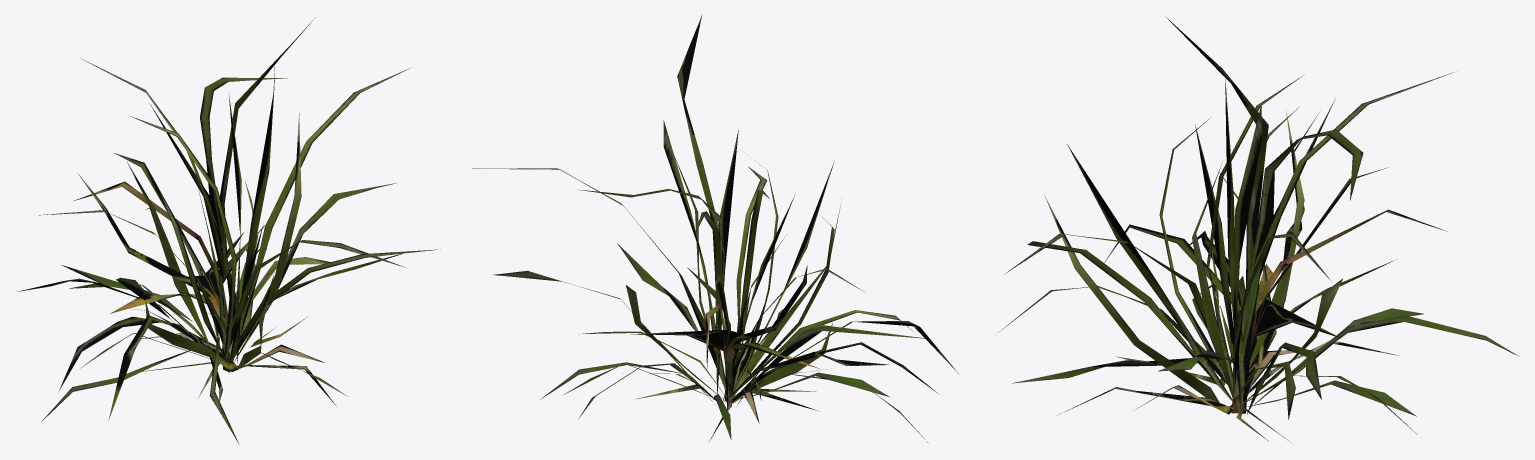
The model's file is grass.glb.
The picture shows the model from 3 angles, left to right: view 1: azimuth 30°, elevation 25°; view 2: azimuth 150°, elevation 25°; view 3: azimuth 270°, elevation 25°; orthographic projection. The views are drawn at different scales.
Visible parts, largest first — view 1: grass_medium_01_small_a_LOD0; view 2: grass_medium_01_small_a_LOD0; view 3: grass_medium_01_small_a_LOD0.
Part boxes in pixels (left/top/right/bottom): grass_medium_01_small_a_LOD0: left=18, top=17, right=440, bottom=444; grass_medium_01_small_a_LOD0: left=472, top=15, right=958, bottom=442; grass_medium_01_small_a_LOD0: left=998, top=16, right=1519, bottom=442.
Bounding box in the file's own units: 0.1682 × 0.1396 × 0.1551.
Materials: 1 (1 with a texture image).
